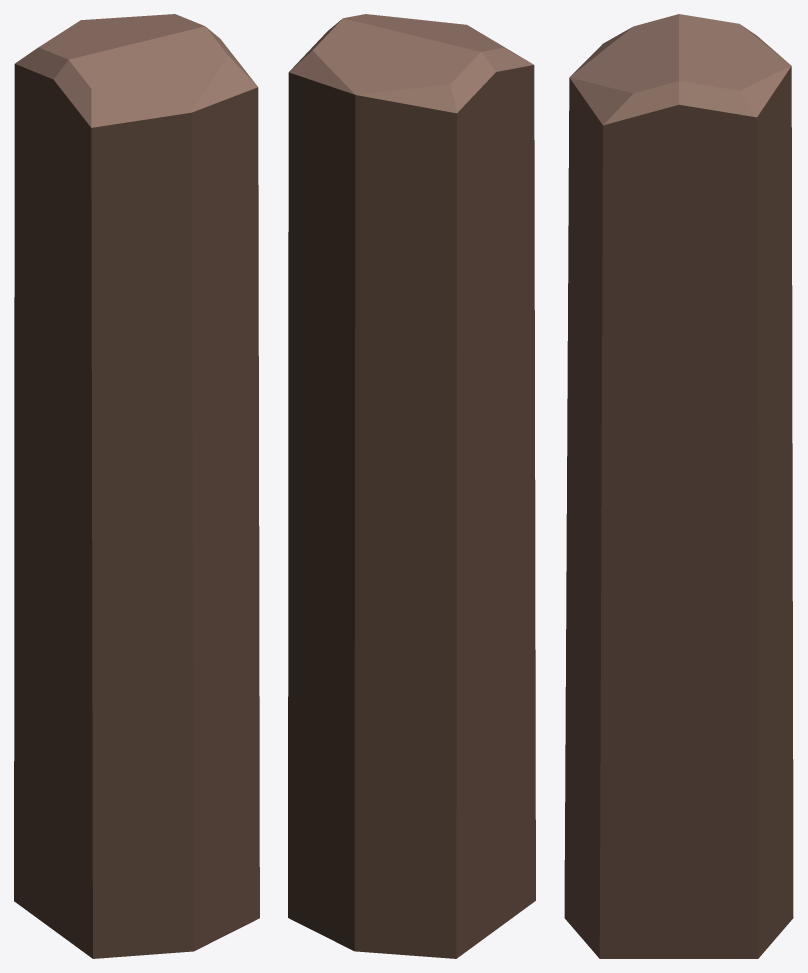
Rendered from stone_pillar_05.glb.
3 views of the same model, side by side, from view 1: azimuth 30°, elevation 25°; view 2: azimuth 150°, elevation 25°; view 3: azimuth 270°, elevation 25° (orthographic).
Parts seen in each view (by area): view 1: Plane; view 2: Plane; view 3: Plane.
Part boxes in pixels (x1,y1,x2,y2): Plane: (14, 14, 259, 958); Plane: (288, 14, 535, 958); Plane: (564, 14, 793, 958).
Size of the model in its own units: 10 by 49.61 by 11.83.
1 material, 1 textured.
